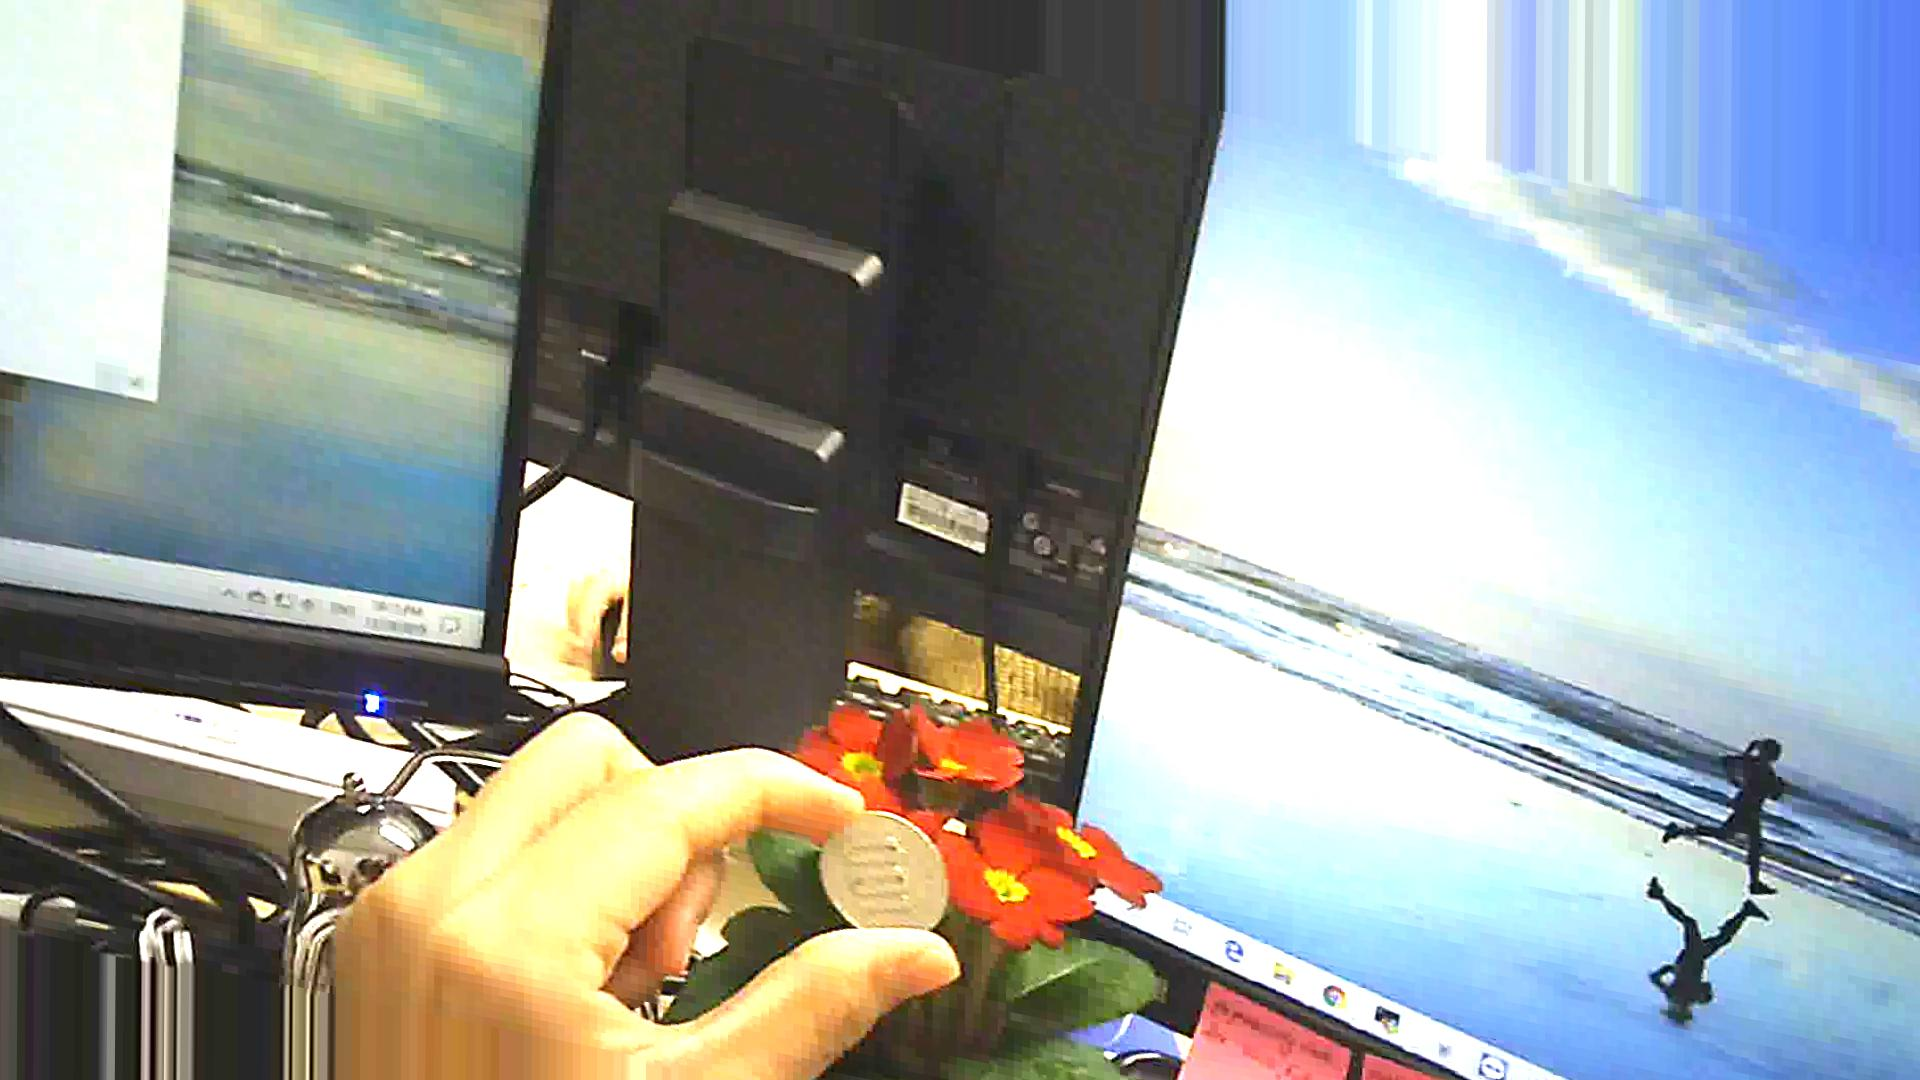100 Yen: (811, 802, 948, 945)
